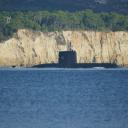submarine: (13, 41, 120, 70)
